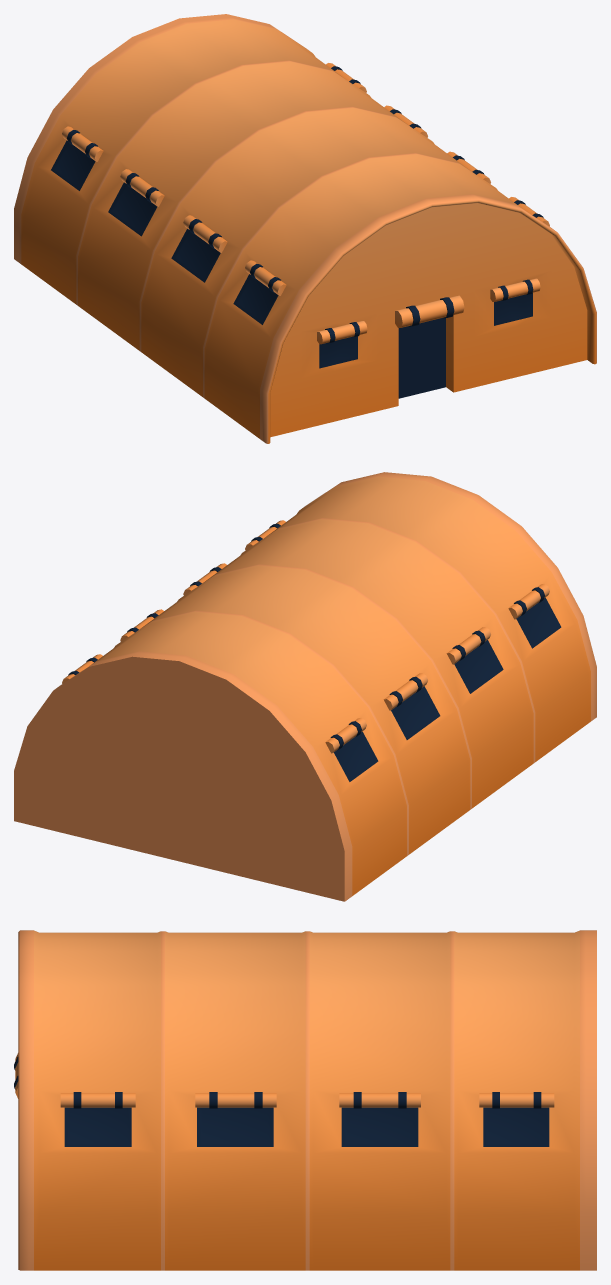
Rendered from Prop_Military_Tent_01.fbx.
The picture shows the model from 3 angles, top to bottom: view 1: azimuth 30°, elevation 25°; view 2: azimuth 150°, elevation 25°; view 3: azimuth 270°, elevation 25°; orthographic projection. The views are drawn at different scales.
Visible parts, largest first — view 1: Prop_Military_Tent_01; view 2: Prop_Military_Tent_01; view 3: Prop_Military_Tent_01.
Boxes of the visible parts, bbox=[...] form: Prop_Military_Tent_01: bbox=[14, 14, 596, 443]; Prop_Military_Tent_01: bbox=[14, 472, 596, 901]; Prop_Military_Tent_01: bbox=[14, 930, 596, 1270].
Bounding box in the file's own units: 396 × 229 × 529.
